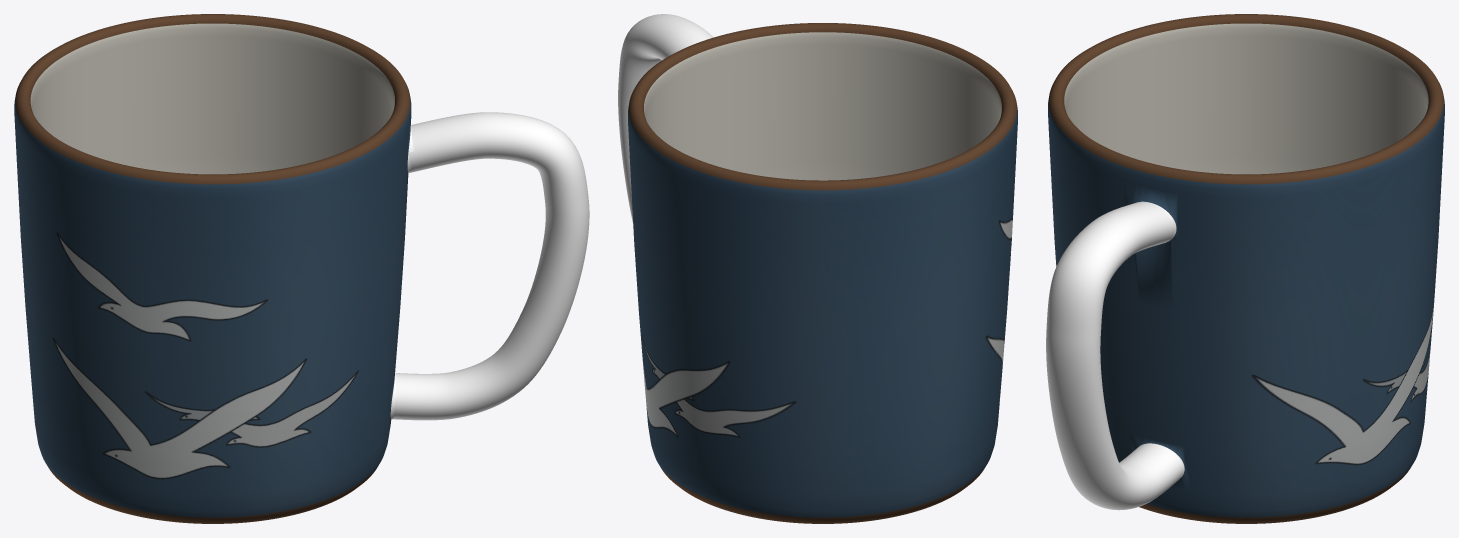
The model's file is bird_mug.glb.
3 views of the same model, side by side, from view 1: azimuth 30°, elevation 25°; view 2: azimuth 150°, elevation 25°; view 3: azimuth 270°, elevation 25° (orthographic).
Visible parts, largest first — view 1: Bird Mug; view 2: Bird Mug; view 3: Bird Mug.
Part boxes in pixels (x1,y1,x2,y2): Bird Mug: (14, 14, 589, 523); Bird Mug: (618, 14, 1017, 523); Bird Mug: (1046, 14, 1444, 523).
Bounding box in the file's own units: 0.1262 × 0.095 × 0.0947.
5 materials, 1 textured.
